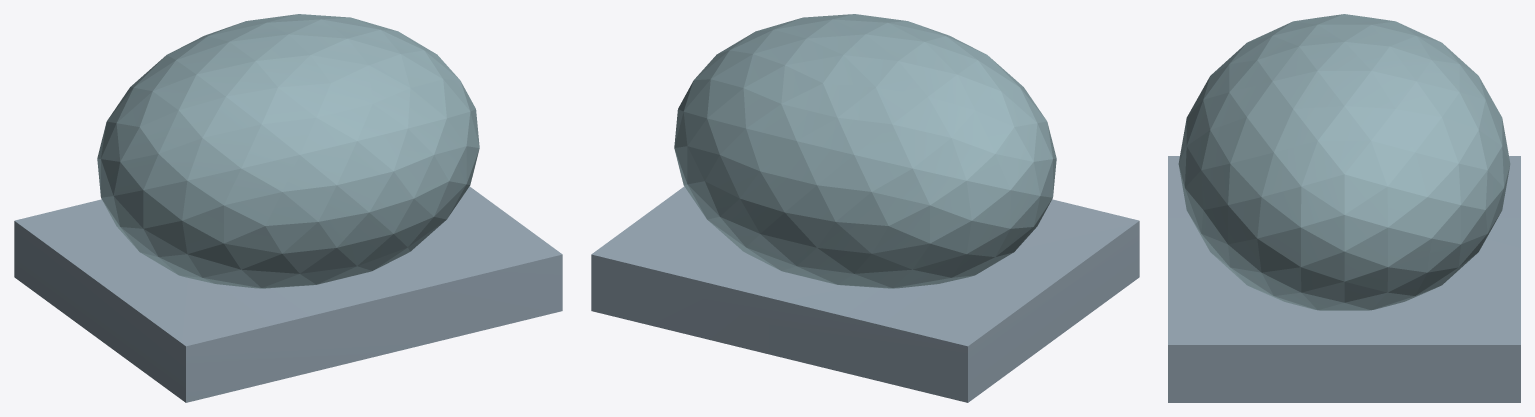
Rendered from stadium-04.glb.
The picture shows the model from 3 angles, left to right: view 1: azimuth 30°, elevation 25°; view 2: azimuth 150°, elevation 25°; view 3: azimuth 270°, elevation 25°; orthographic projection. The views are drawn at different scales.
Visible parts, largest first — view 1: world; view 2: world; view 3: world.
Part boxes in pixels (x1,y1,x2,y2): world: (14, 14, 562, 402); world: (591, 14, 1139, 402); world: (1168, 14, 1520, 402).
Size of the model in its own units: 1.39 by 0.9179 by 1.1.
